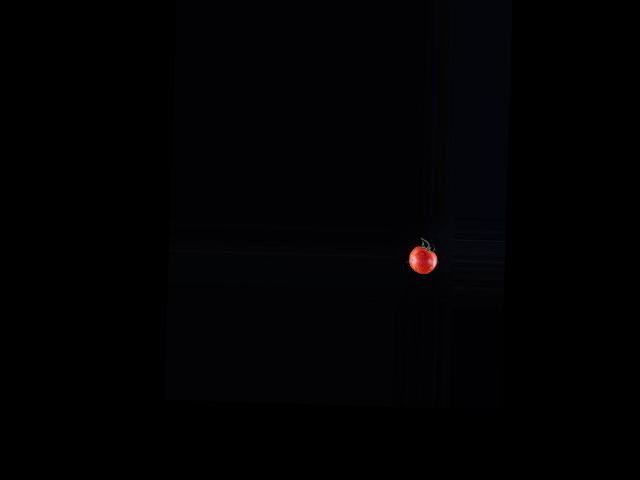tomato: (408, 245, 437, 274)
